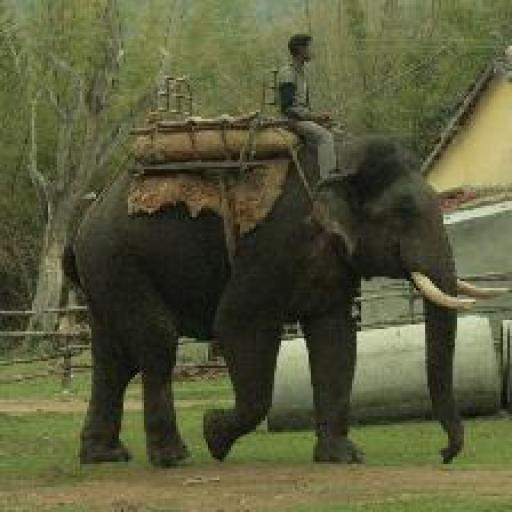Elephant: (62, 124, 510, 466)
